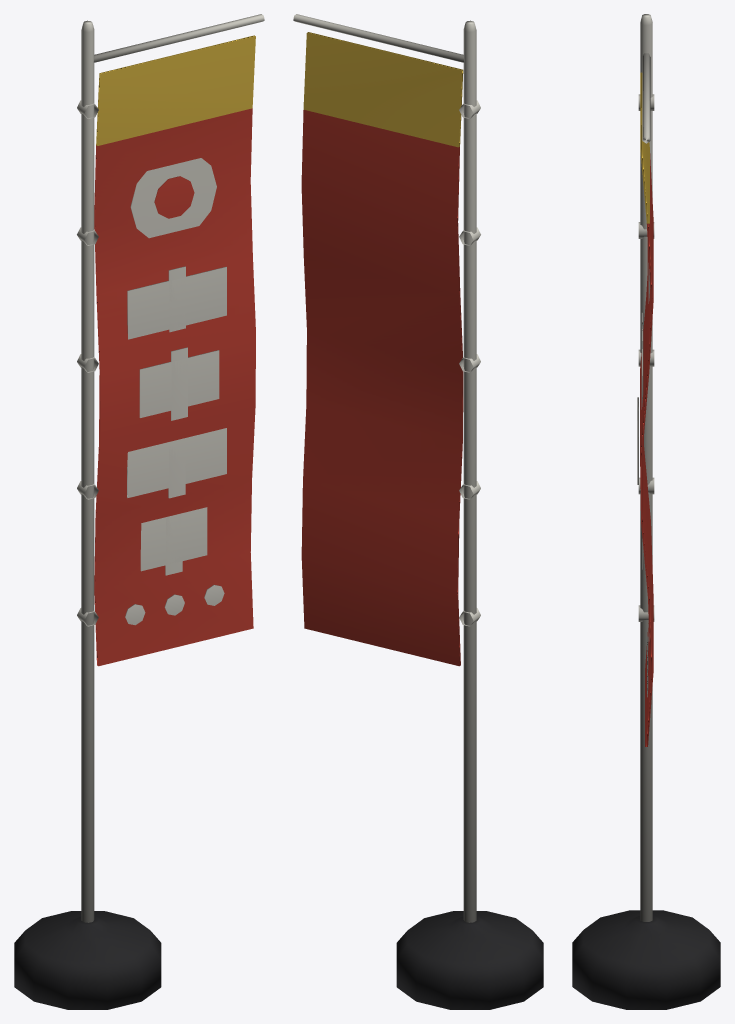
File: BannerFlag.fbx
The picture shows the model from 3 angles, left to right: view 1: azimuth 30°, elevation 25°; view 2: azimuth 150°, elevation 25°; view 3: azimuth 270°, elevation 25°; orthographic projection.
Parts seen in each view (by area): view 1: BannerFlag; view 2: BannerFlag; view 3: BannerFlag.
Part boxes in pixels (x1,y1,x2,y2): BannerFlag: (14,14,264,1009); BannerFlag: (293,14,543,1009); BannerFlag: (572,14,720,1009).
Size of the model in its own units: 0.7232 by 2.77 by 0.3864.
